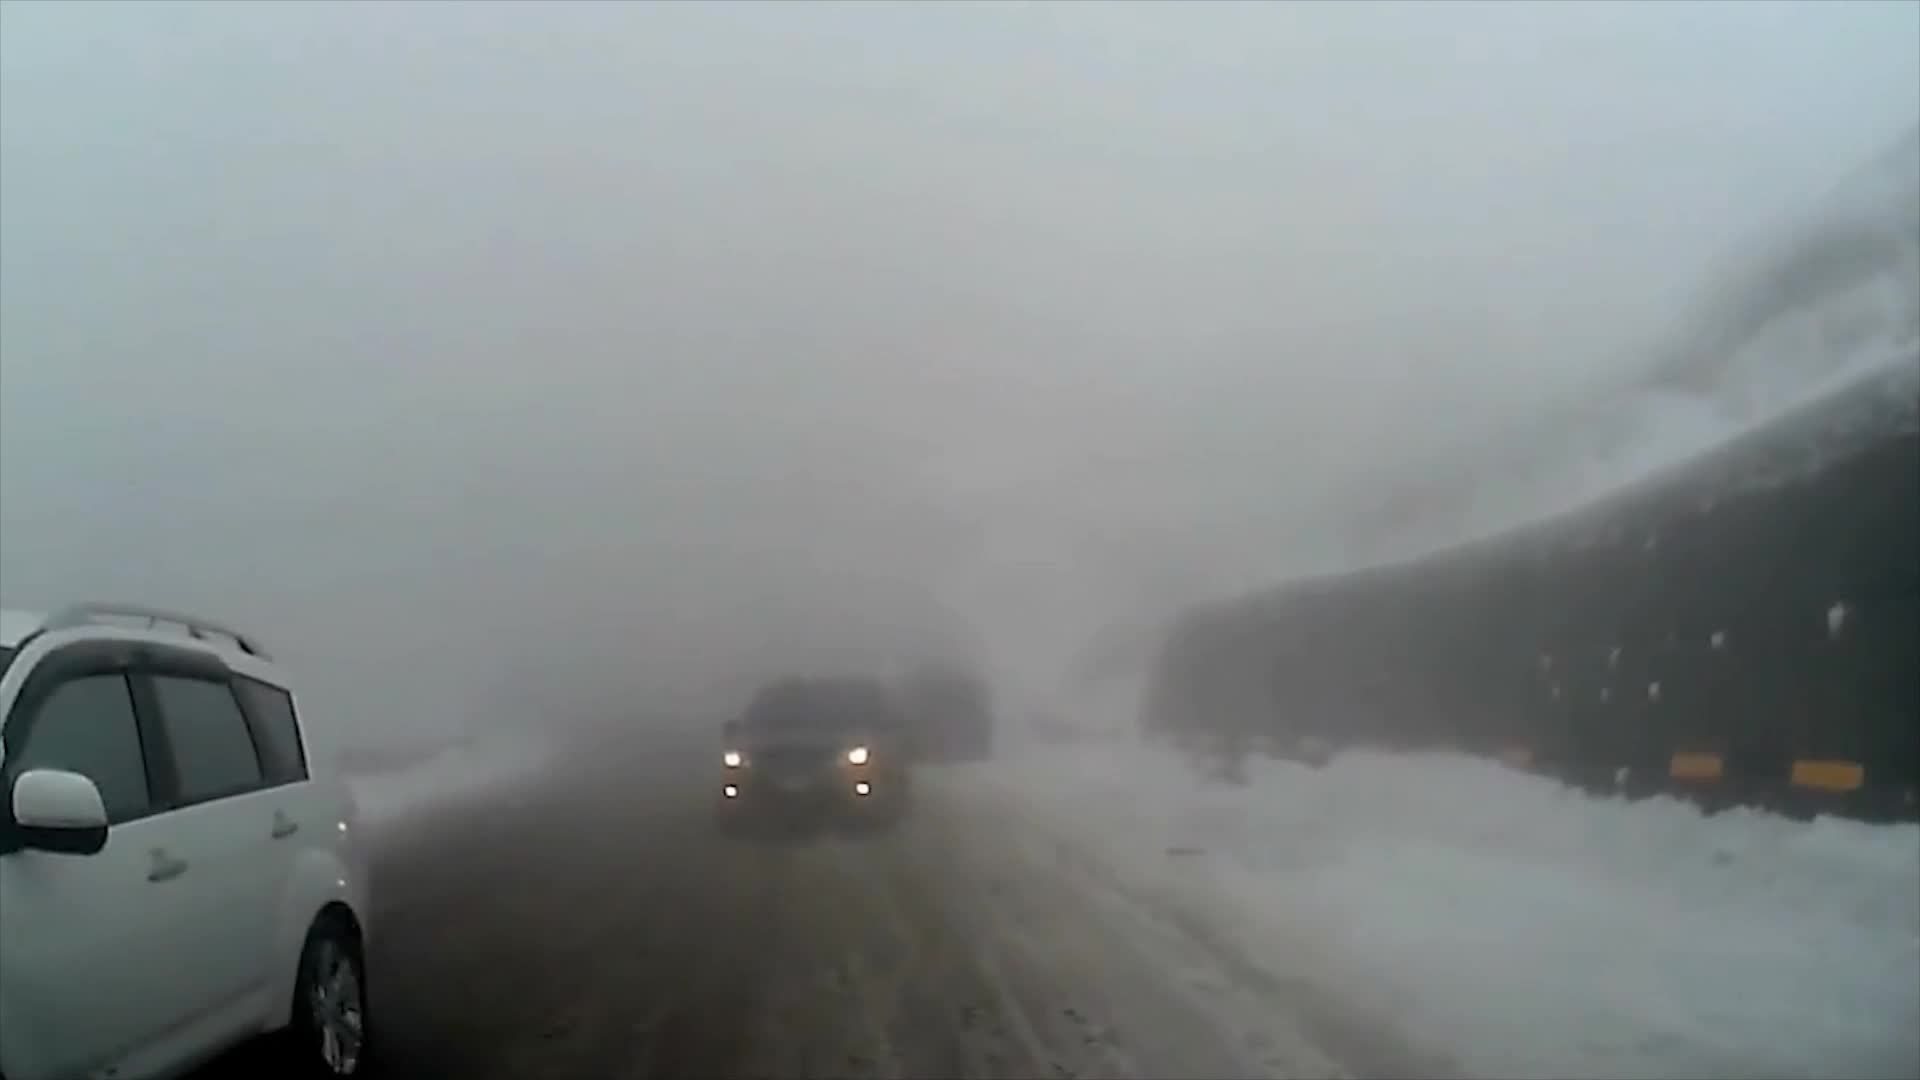vehicle: (0, 599, 378, 1080), (713, 670, 913, 837)
